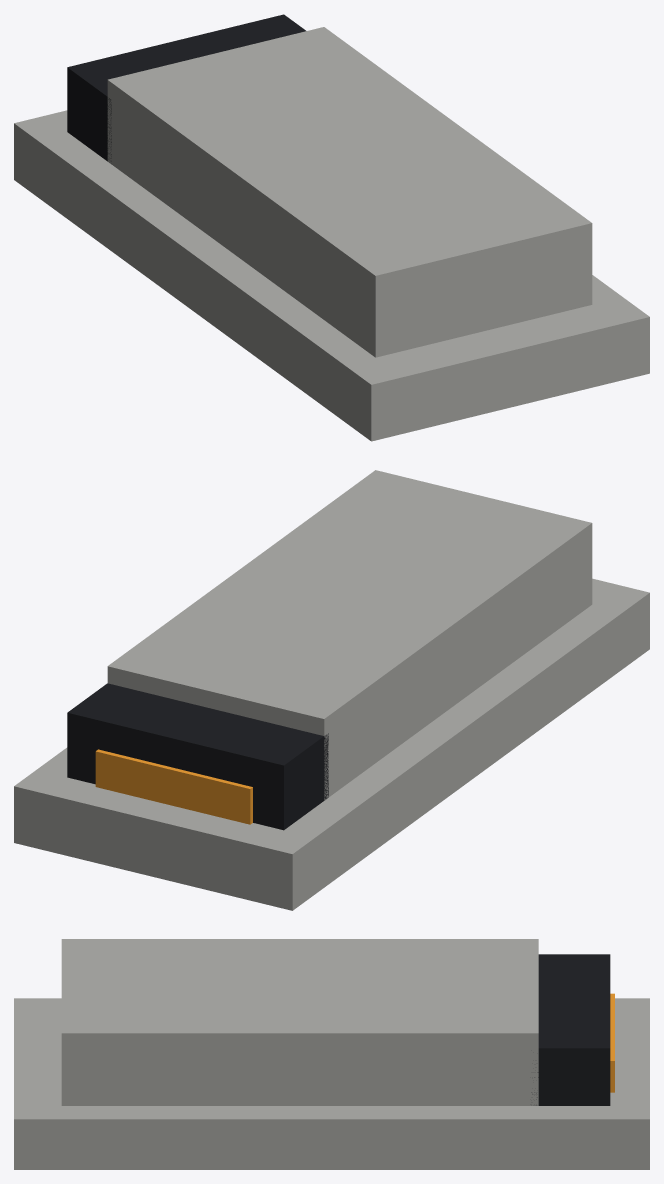
The model's file is civilian_vent.glb.
3 views of the same model, one above another, from view 1: azimuth 30°, elevation 25°; view 2: azimuth 150°, elevation 25°; view 3: azimuth 270°, elevation 25° (orthographic). The views are drawn at different scales.
Size of the model in its own units: 0.18 by 0.0855 by 0.4.
